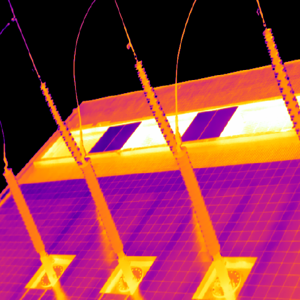insulator: (132, 58, 184, 166), (262, 24, 300, 144), (39, 83, 85, 171)
